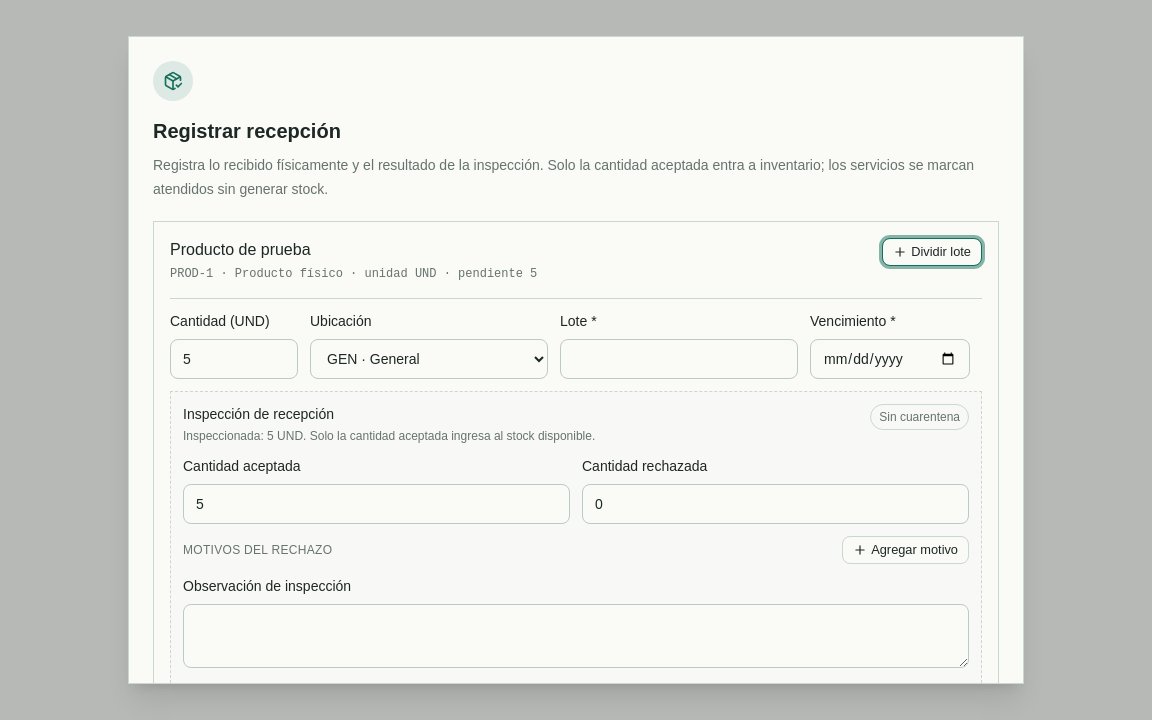
Test: DialogoConfirmacionRecepcion › impide confirmar cuando no se conserva la cantidad inspeccionada
Type "LOTE-1" into the field labelled "Lote *" at [679, 359], box [560,339,798,379]
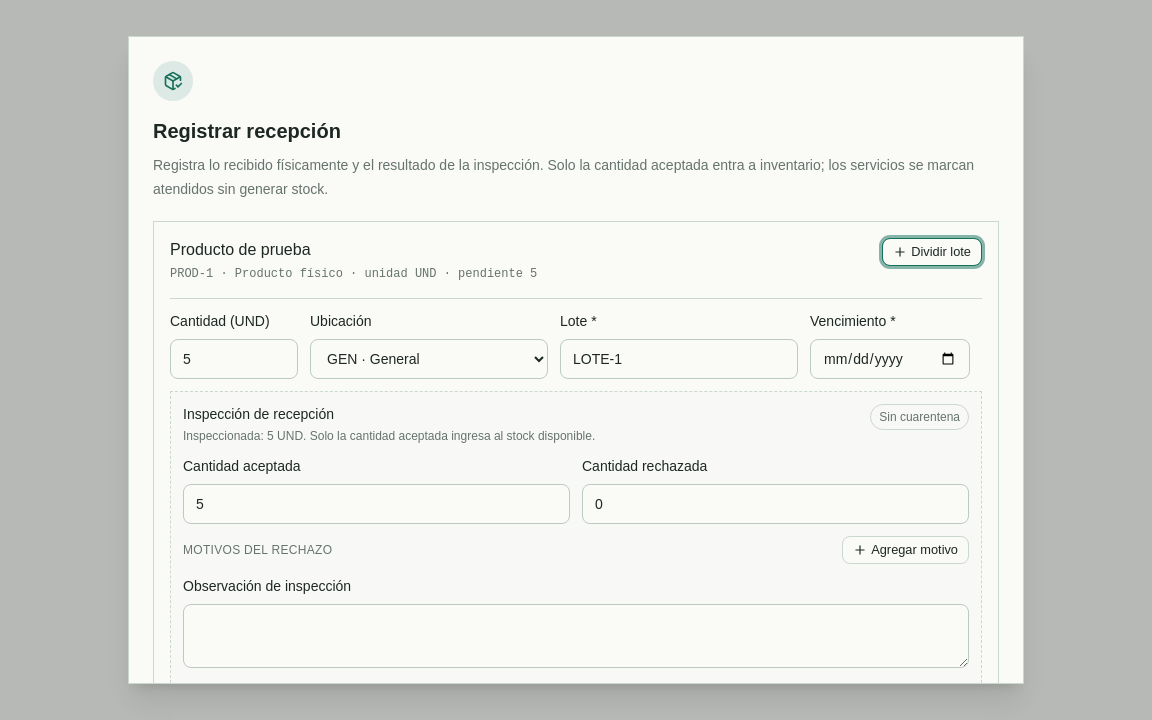
Type "2027-09-01" into the date field labelled "Vencimiento *" at [890, 359], box [810,339,970,379]
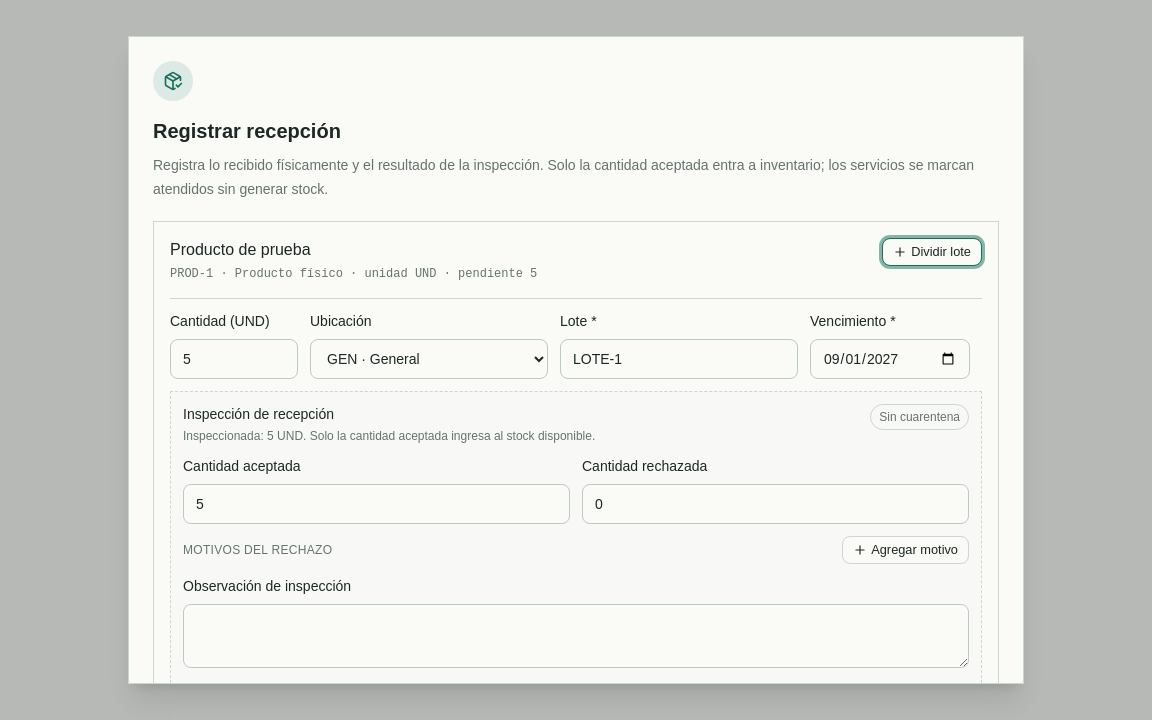
Replace the text in the number field labelled "Cantidad aceptada" with "4" at [376, 504], box [183,484,570,524]
(page scrolled)
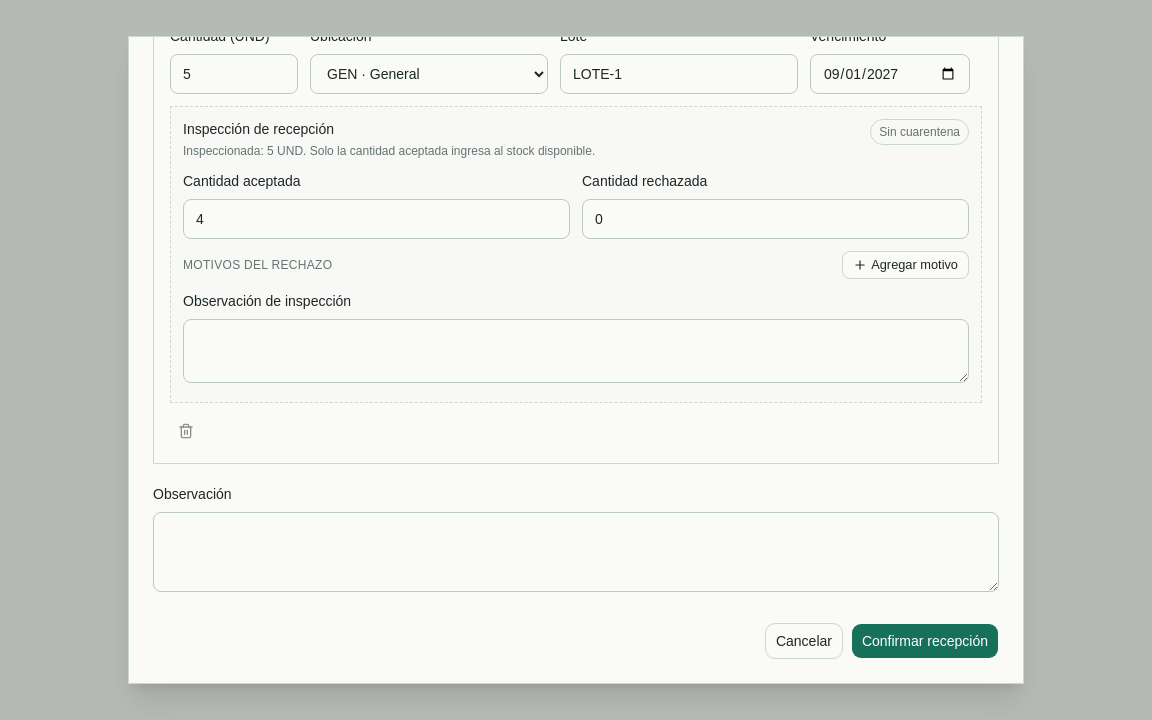
Click the button "Confirmar recepción" at [925, 641], box [851,623,999,659]
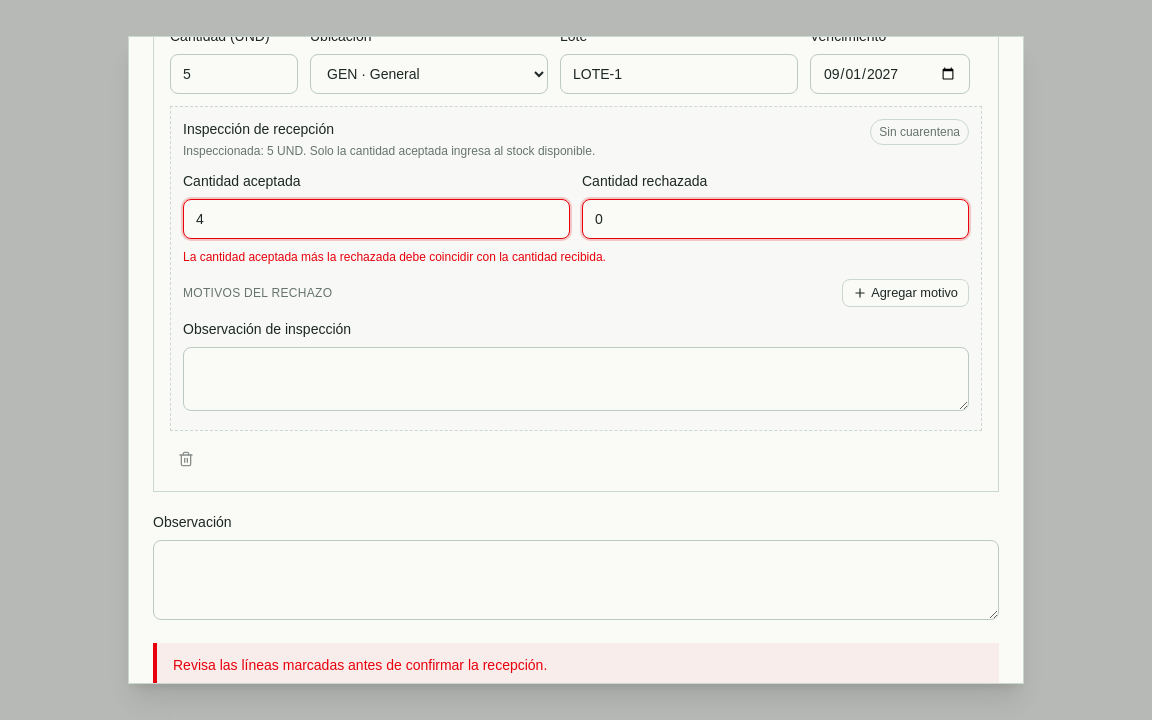
Expected: the text "La cantidad aceptada más la rechazada debe coincidir con la cantidad recibida." is shown, [183,250,606,264]
